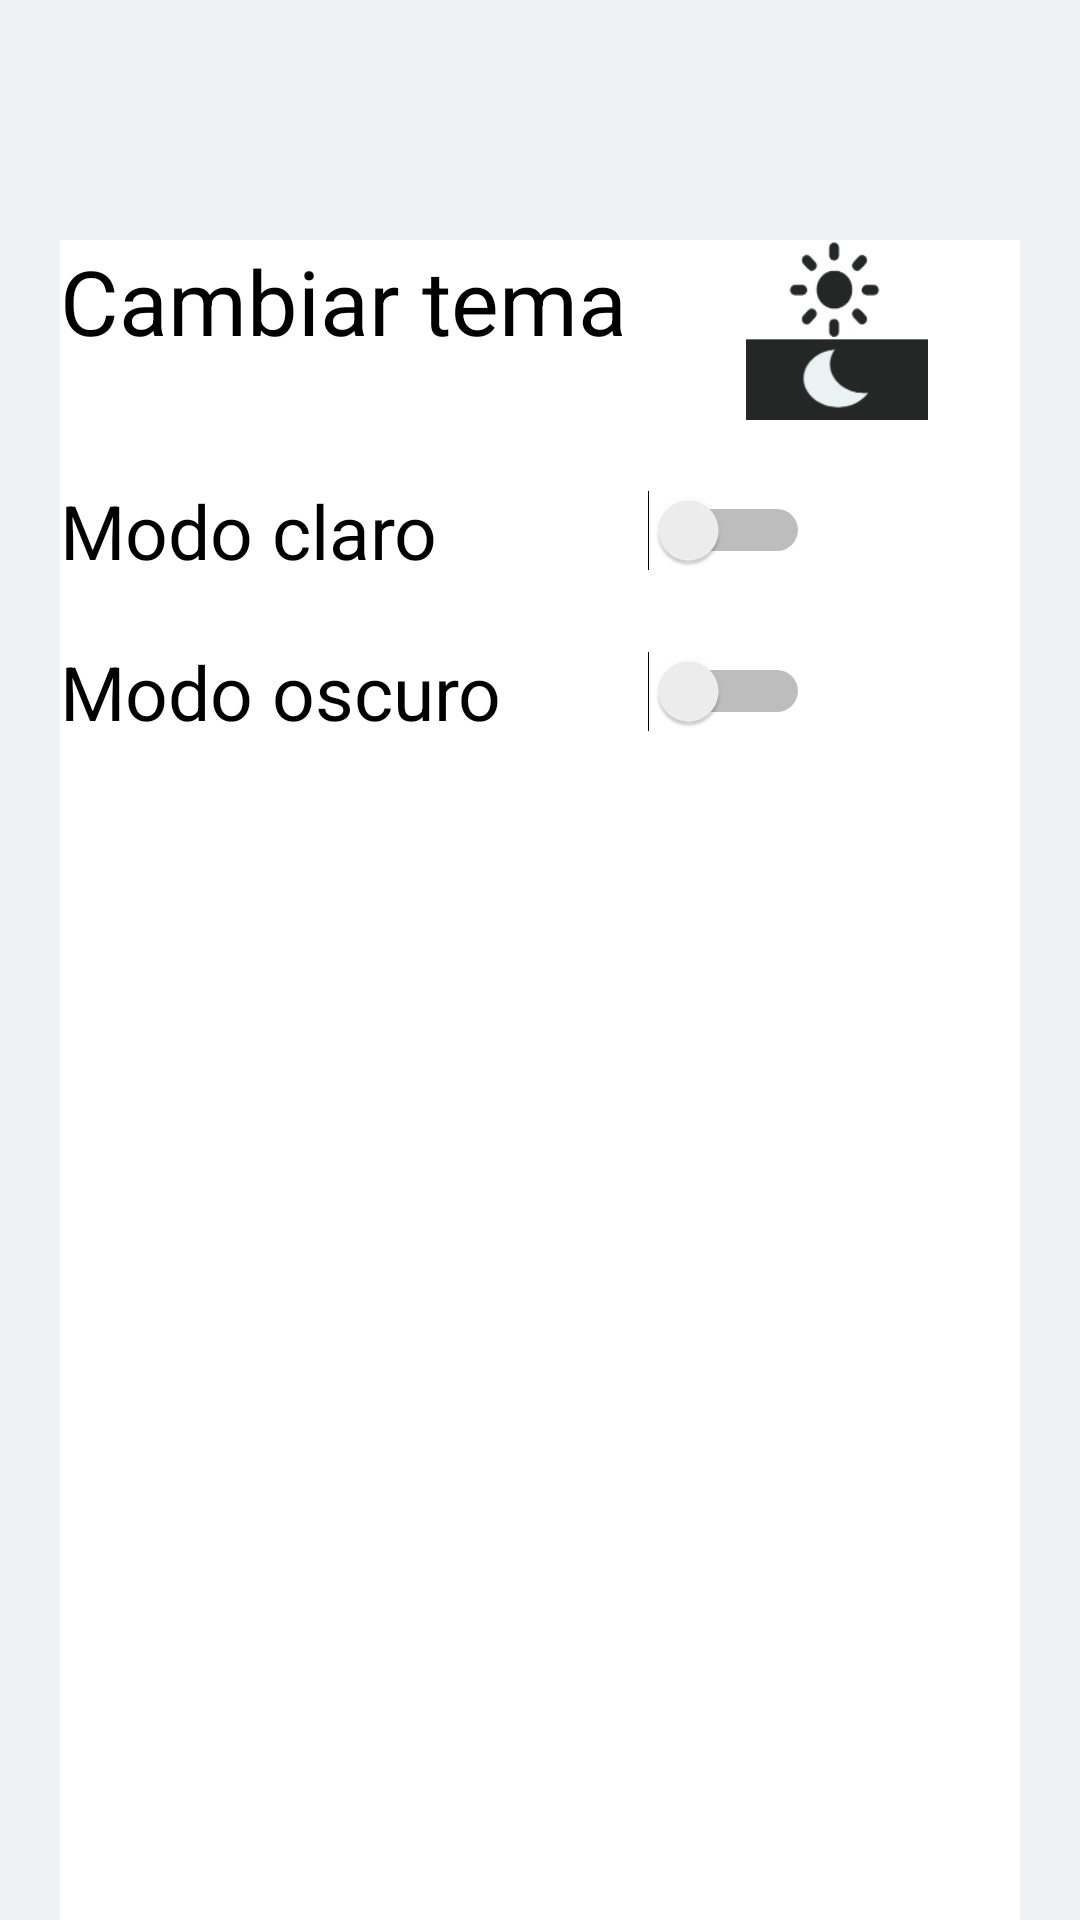

Named icons in this screenshot (1080×1920) and their bounding boxes, (x1, y1, x2, y2):
thememode: (746, 242, 928, 420)
